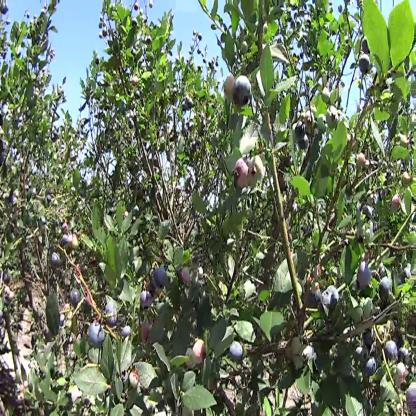intermediate: (235, 158, 248, 189), (194, 342, 204, 364), (182, 265, 193, 285), (141, 324, 151, 346), (224, 78, 233, 98), (357, 152, 366, 171), (396, 363, 404, 384), (130, 372, 139, 388), (393, 193, 399, 212), (73, 236, 79, 250)
mature: (88, 318, 105, 345), (357, 264, 373, 292), (234, 78, 251, 103), (326, 289, 340, 314), (309, 284, 321, 310), (385, 339, 398, 361), (359, 53, 371, 76), (355, 345, 368, 365), (380, 276, 390, 301), (140, 293, 154, 310), (155, 267, 167, 286), (53, 252, 66, 269), (231, 339, 242, 359), (303, 346, 314, 365), (365, 361, 377, 377), (362, 330, 373, 347), (106, 304, 116, 322), (147, 282, 157, 295), (122, 327, 131, 340), (73, 289, 80, 305), (362, 41, 369, 56), (297, 123, 304, 138), (367, 207, 373, 216), (62, 234, 67, 242), (46, 194, 50, 204), (104, 28, 108, 38), (136, 91, 139, 102), (134, 6, 138, 13), (99, 25, 102, 29), (298, 339, 300, 342)
young: (248, 158, 263, 185), (328, 108, 340, 126), (185, 350, 195, 371), (306, 114, 316, 132), (363, 301, 373, 318), (352, 308, 363, 323), (402, 173, 411, 184), (368, 193, 374, 205), (242, 41, 247, 53), (100, 16, 104, 22), (100, 33, 103, 39)
